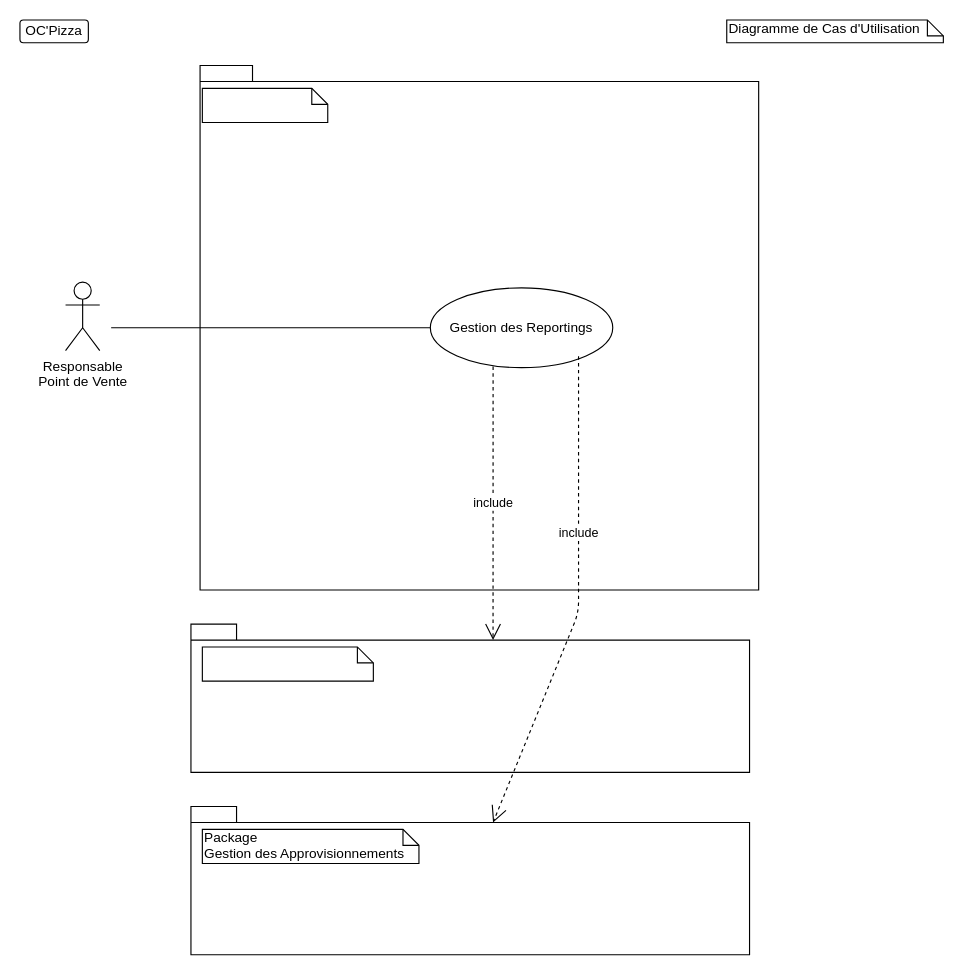
The diagram is 963 pixels wide and 975 high, and some of its shapes have lost their labels. Each missing label, with the centre of its shape:
"Package Gestion centrale" belongs at point (264, 105).
"Package Gestion des Commandes" belongs at point (287, 663).
